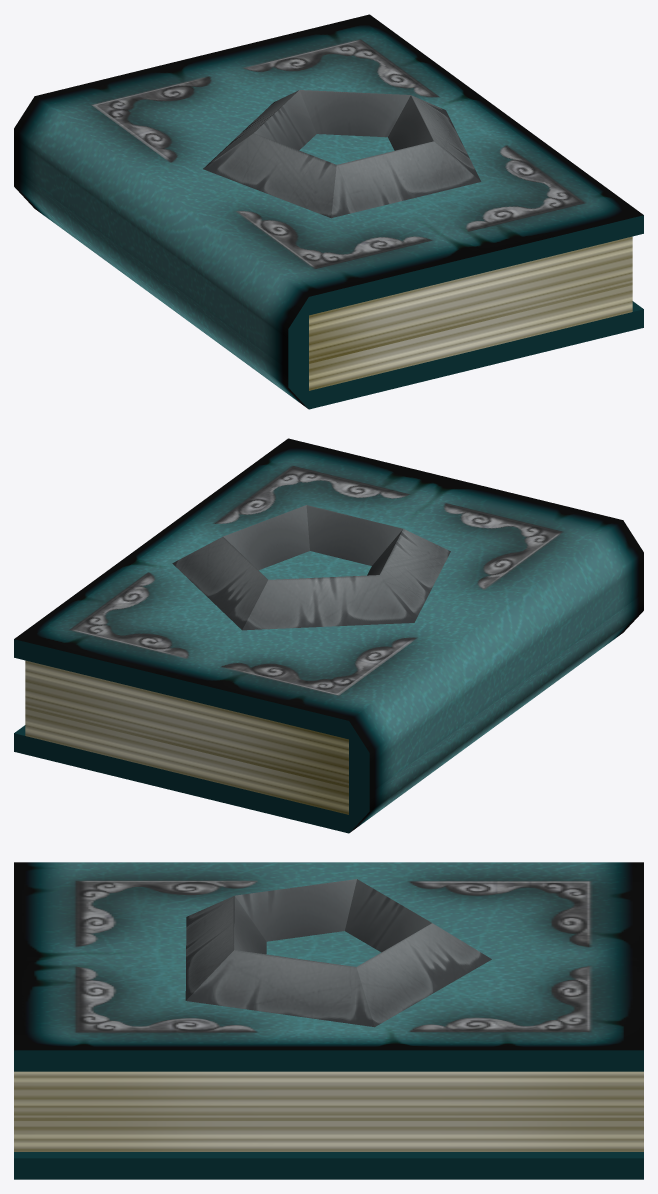
The model's file is Book3.fbx.
3 renders of one model, top to bottom at view 1: azimuth 30°, elevation 25°; view 2: azimuth 150°, elevation 25°; view 3: azimuth 270°, elevation 25°, orthographic. The views are drawn at different scales.
Visible parts, largest first — view 1: polySurface2; view 2: polySurface2; view 3: polySurface2.
Boxes of the visible parts, x1,y1,x2,y2 form: polySurface2: (14,14,643,409); polySurface2: (14,438,643,833); polySurface2: (14,862,643,1179).
Bounding box in the file's own units: 15.55 × 7.34 × 20.76.
Materials: 1 (1 with a texture image).
